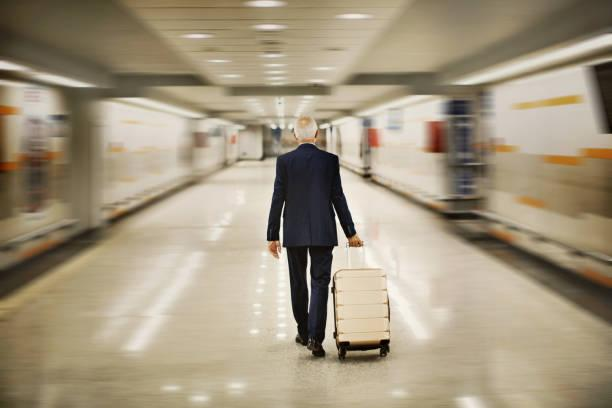Human: (265, 105, 366, 364)
